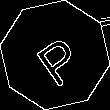P_NW: (25, 24, 85, 86)
